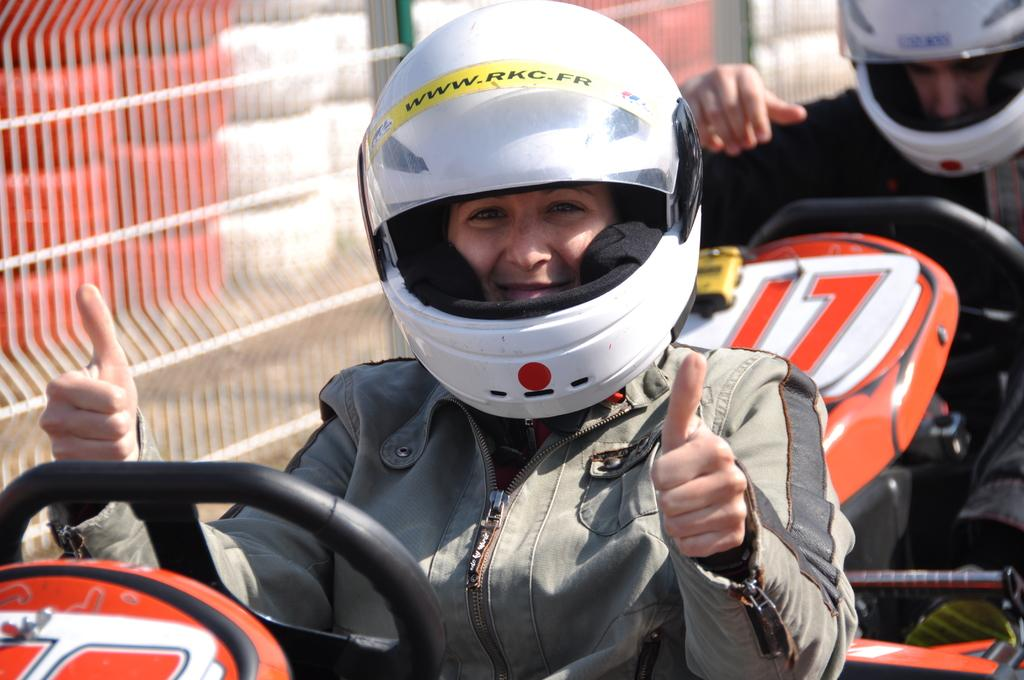helmet: (357, 0, 704, 426), (836, 0, 1024, 181)
